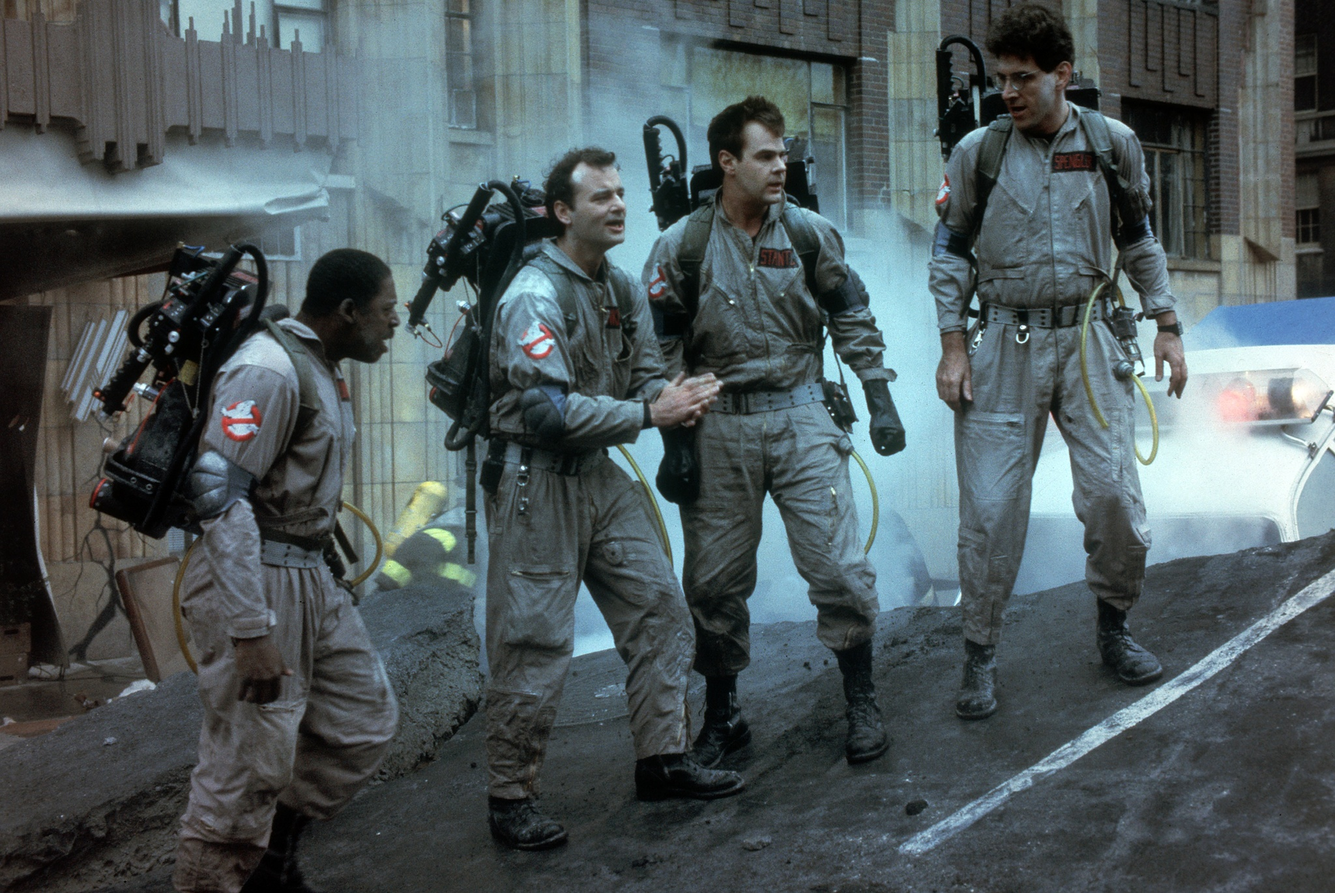25: (338, 261, 407, 373)
33: (984, 35, 1063, 142), (726, 109, 795, 214)
38: (561, 152, 636, 255)
Belt: (484, 435, 614, 485), (253, 520, 332, 580), (978, 299, 1114, 330), (687, 384, 830, 413)
Boots: (827, 636, 893, 765), (1092, 591, 1167, 687), (250, 800, 325, 893), (634, 753, 755, 807), (688, 677, 755, 773), (482, 795, 577, 853), (954, 636, 1001, 722)
Glasses: (991, 58, 1068, 94)
Gloves: (654, 408, 711, 505), (858, 376, 910, 462)
Jump suit: (920, 100, 1176, 651), (458, 238, 694, 808), (173, 314, 405, 892), (646, 184, 881, 677)
Male: (984, 35, 1063, 142), (338, 261, 407, 373), (561, 152, 636, 255), (726, 109, 795, 214)
Watch: (1156, 319, 1185, 336)
